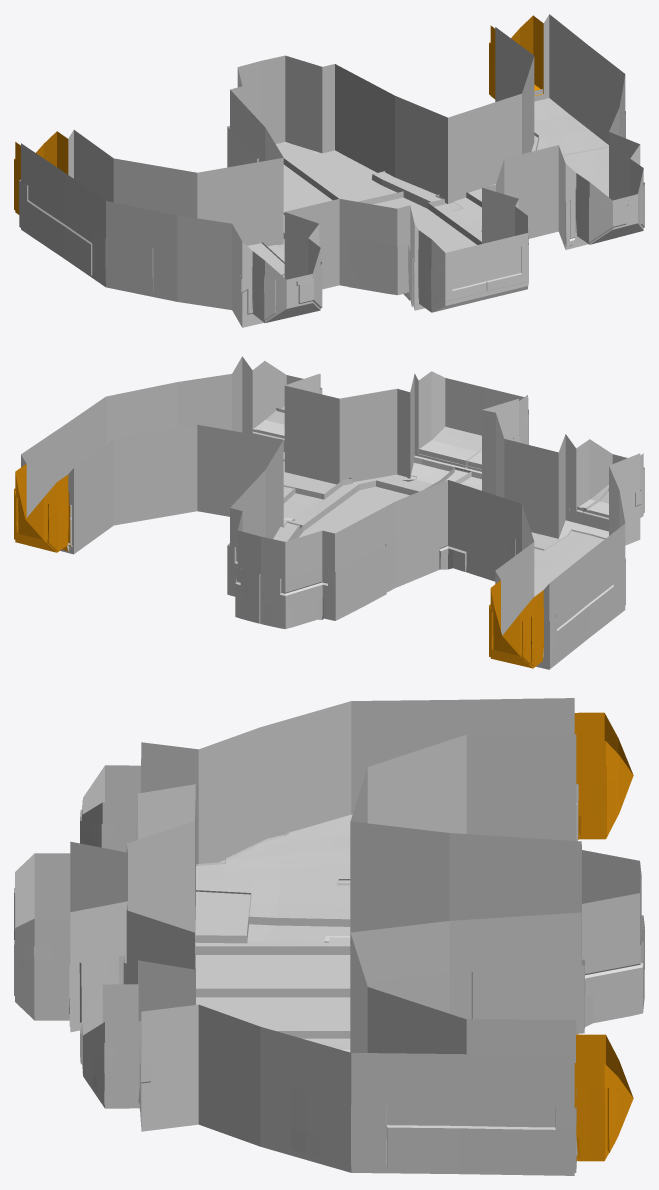
File: interior ship model textured.fbx
The picture shows the model from 3 angles, top to bottom: view 1: azimuth 30°, elevation 25°; view 2: azimuth 150°, elevation 25°; view 3: azimuth 270°, elevation 25°; orthographic projection. The views are drawn at different scales.
Parts seen in each view (by area): view 1: Cube.001; view 2: Cube.001; view 3: Cube.001.
Boxes of the visible parts, x1,y1,x2,y2 form: Cube.001: (14, 14, 644, 327); Cube.001: (14, 356, 644, 669); Cube.001: (14, 698, 644, 1175).
Bounding box in the file's own units: 1295 × 221 × 961.
